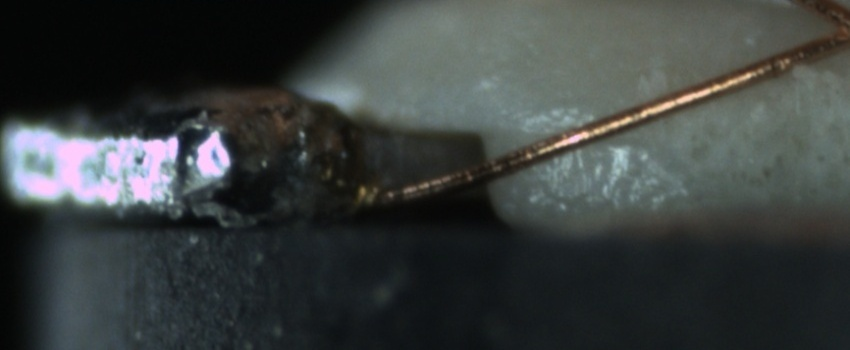CL: (808, 7, 850, 52)
